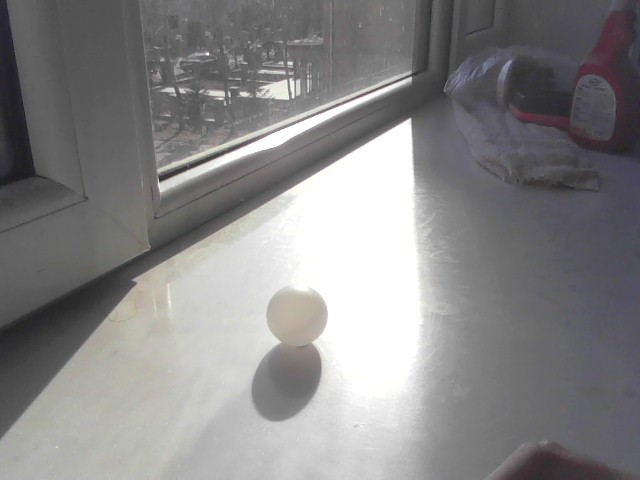ball: (269, 286, 327, 342)
